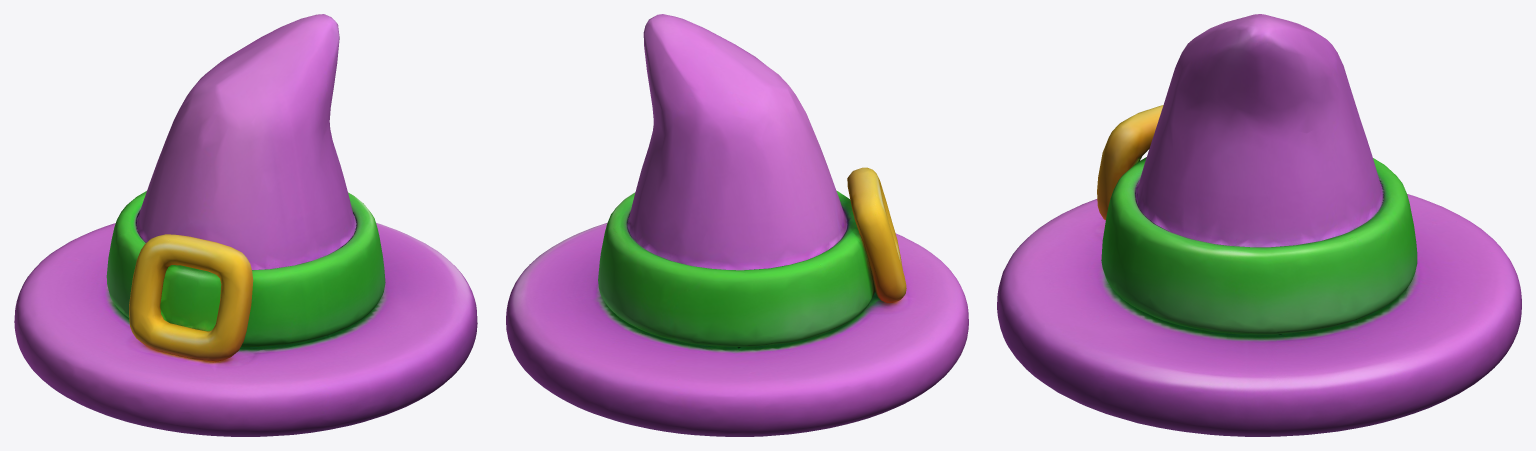
File: cs-witch-hat.glb
3 views of the same model, side by side, from view 1: azimuth 30°, elevation 25°; view 2: azimuth 150°, elevation 25°; view 3: azimuth 270°, elevation 25° (orthographic). The views are drawn at different scales.
Visible parts, largest first — view 1: tripo_node_9a3abee0-df22-4a1d-8e93-42a84ce52401; view 2: tripo_node_9a3abee0-df22-4a1d-8e93-42a84ce52401; view 3: tripo_node_9a3abee0-df22-4a1d-8e93-42a84ce52401.
Part boxes in pixels (bbox=[...]): tripo_node_9a3abee0-df22-4a1d-8e93-42a84ce52401: bbox=[14, 14, 477, 436]; tripo_node_9a3abee0-df22-4a1d-8e93-42a84ce52401: bbox=[506, 14, 968, 436]; tripo_node_9a3abee0-df22-4a1d-8e93-42a84ce52401: bbox=[997, 14, 1521, 436].
Size of the model in its own units: 1 by 0.7504 by 0.999.
1 material, 1 textured.
